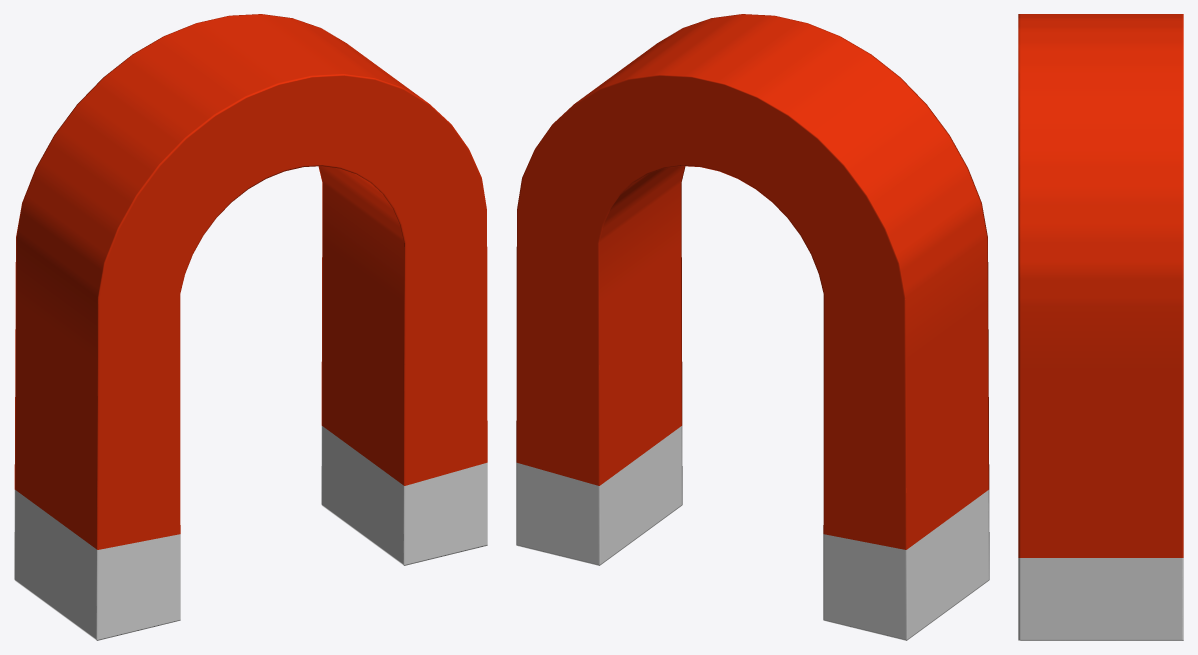
File: magnet.fbx
3 renders of one model, left to right at view 1: azimuth 30°, elevation 25°; view 2: azimuth 150°, elevation 25°; view 3: azimuth 270°, elevation 25°, orthographic.
Visible parts, largest first — view 1: Cube; view 2: Cube; view 3: Cube.
Boxes of the visible parts, left/top/right/bottom form: Cube: left=14, top=14, right=487, bottom=640; Cube: left=516, top=14, right=989, bottom=640; Cube: left=1018, top=14, right=1183, bottom=640.
Size of the model in its own units: 1.09 by 1.36 by 0.4.
